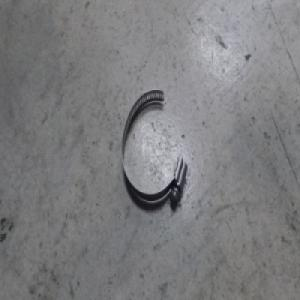AdjustableClamp: (118, 91, 186, 218)
